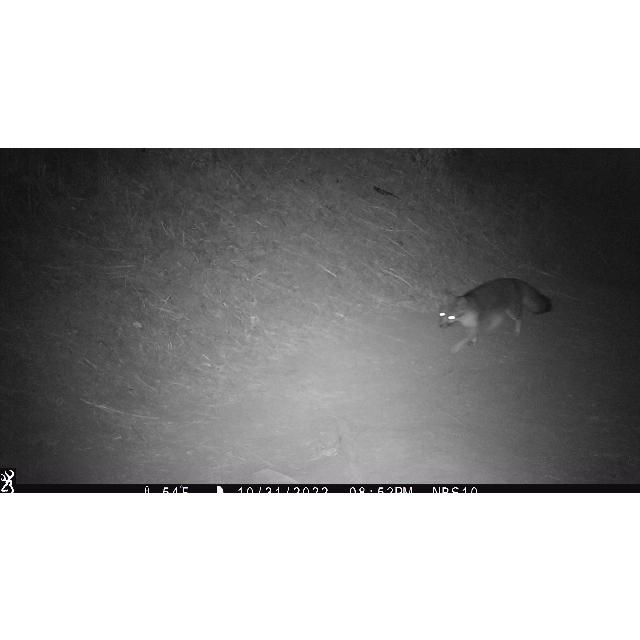animals: (434, 274, 556, 356)
